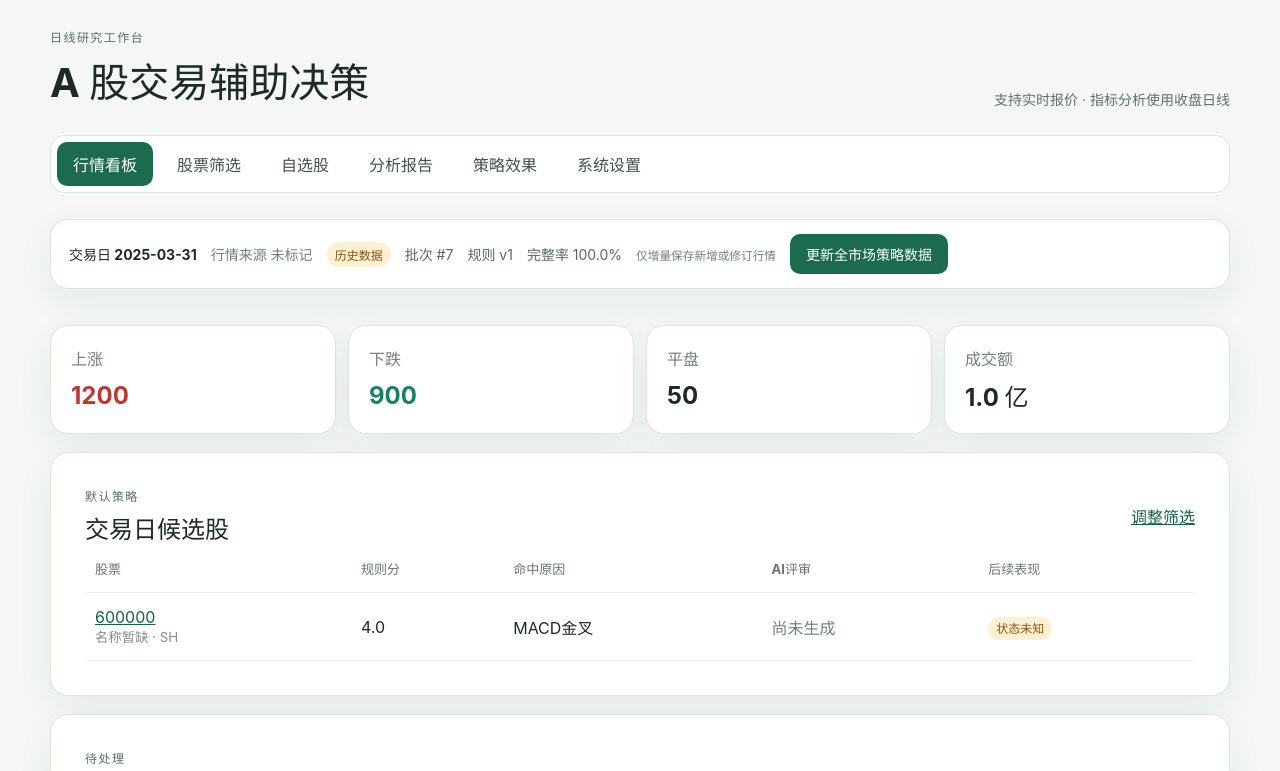
Test: App › refreshes dashboard automatically when the background job activates a new batch
What coordinates should you click on to do the following:
click the button "更新全市场策略数据"
I would click on:
 (869, 254)
Its box is [790,234,948,274].
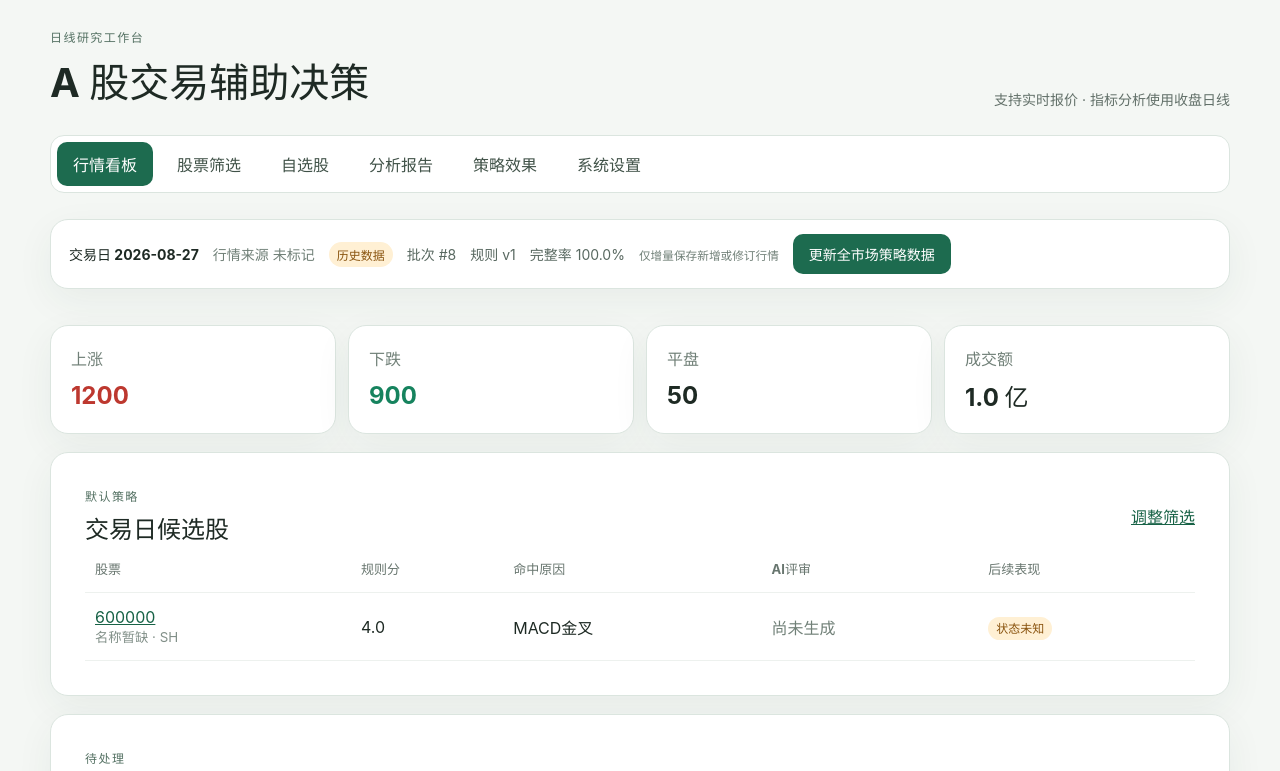
Expected: the text "交易日 2026-08-27" is shown, [69,244,199,264]
